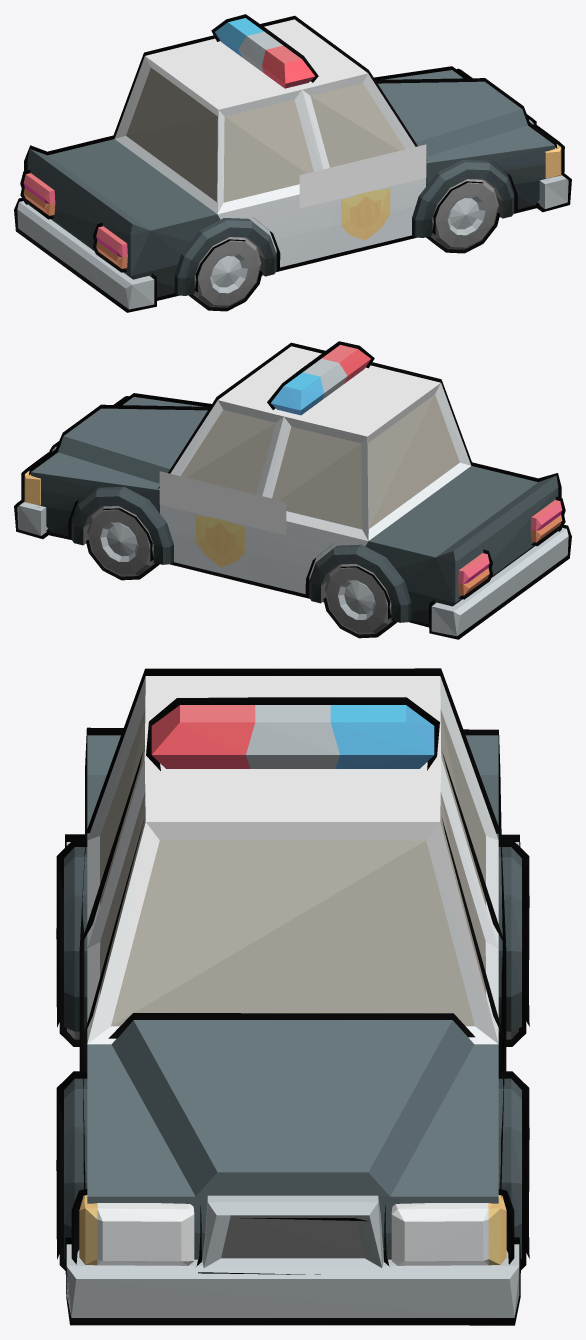
File: BR_Polizeiauto.glb
The picture shows the model from 3 angles, top to bottom: view 1: azimuth 30°, elevation 25°; view 2: azimuth 150°, elevation 25°; view 3: azimuth 270°, elevation 25°; orthographic projection. The views are drawn at different scales.
Visible parts, largest first — view 1: BR_Polizeiauto_Mesh, BR_Polizeiauto_Outline; view 2: BR_Polizeiauto_Mesh, BR_Polizeiauto_Outline; view 3: BR_Polizeiauto_Mesh, BR_Polizeiauto_Outline.
Part boxes in pixels (x1=…): BR_Polizeiauto_Mesh: x1=17, y1=18, x2=568, y2=309; BR_Polizeiauto_Outline: x1=14, y1=14, x2=571, y2=312; BR_Polizeiauto_Mesh: x1=17, y1=345, x2=568, y2=636; BR_Polizeiauto_Outline: x1=14, y1=341, x2=571, y2=639; BR_Polizeiauto_Mesh: x1=64, y1=676, x2=521, y2=1317; BR_Polizeiauto_Outline: x1=56, y1=668, x2=529, y2=1325.
Bounding box in the file's own units: 4.09 × 1.83 × 1.86.
